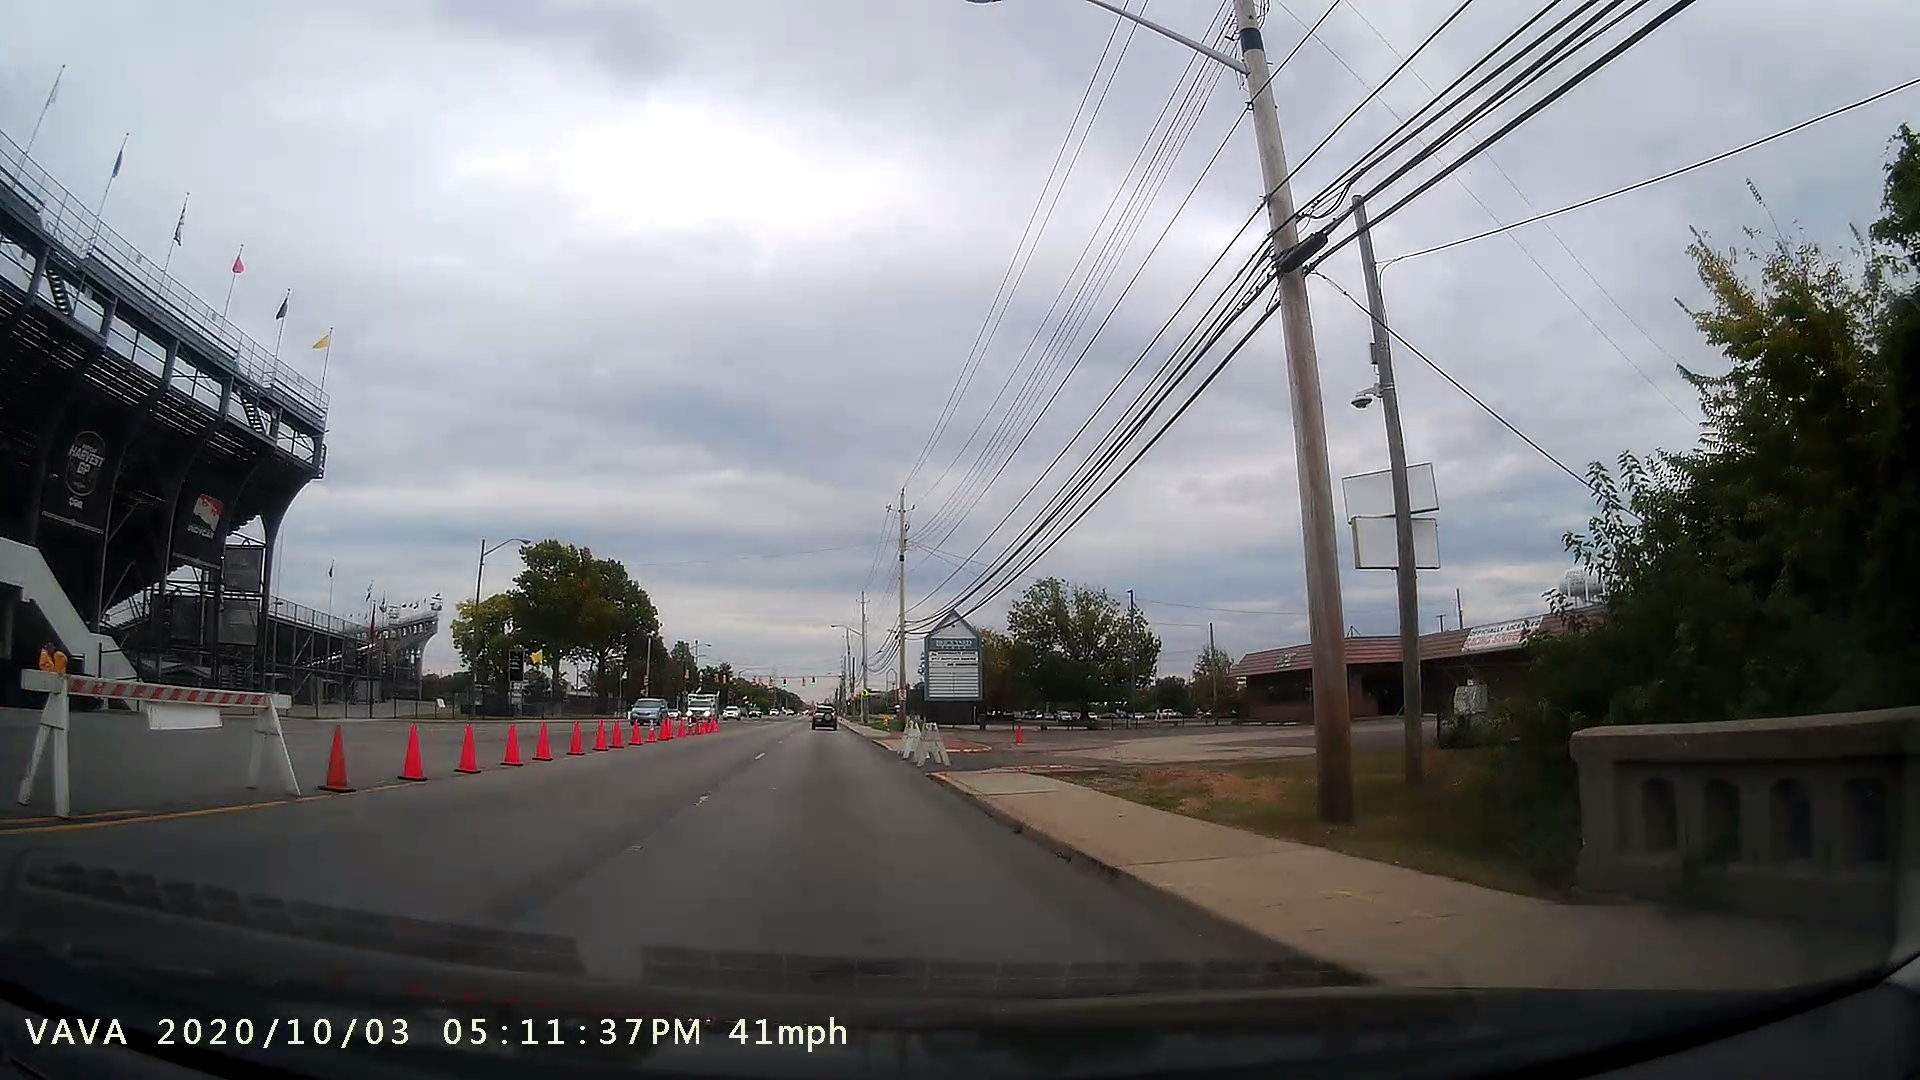const_barricade: (15, 651, 302, 819)
const_cone: (386, 703, 436, 785), (315, 713, 360, 798), (450, 717, 484, 781), (492, 713, 529, 771)
